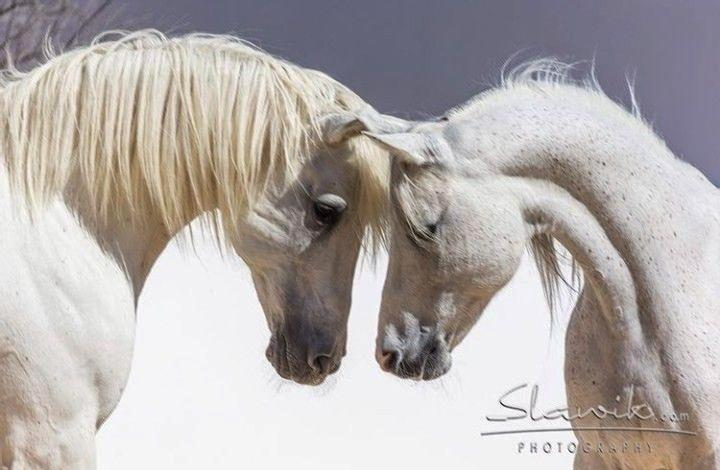horse: (0, 21, 385, 468)
